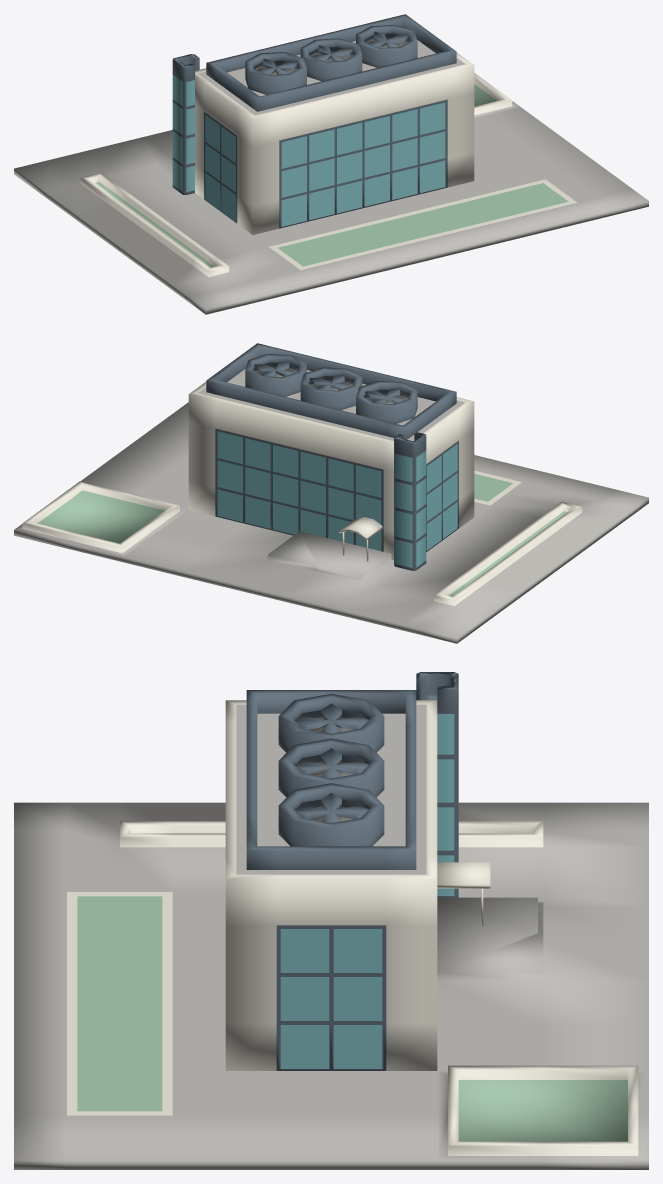
The model's file is lab_stage1.glb.
3 views of the same model, one above another, from view 1: azimuth 30°, elevation 25°; view 2: azimuth 150°, elevation 25°; view 3: azimuth 270°, elevation 25° (orthographic). The views are drawn at different scales.
Visible parts, largest first — view 1: LabBuildingPlatform, LabBuildingMain, LabTop, LabGlassStalk; view 2: LabBuildingPlatform, LabBuildingMain, LabTop, LabGlassStalk; view 3: LabBuildingPlatform, LabBuildingMain, LabTop, LabGlassStalk, LabFan.002, LabFan, LabFan.001.
Part boxes in pixels (<box>): LabBuildingPlatform: <box>14,73,648,314</box>; LabBuildingMain: <box>195,40,474,234</box>; LabTop: <box>206,14,456,111</box>; LabGlassStalk: <box>172,54,199,194</box>; LabBuildingPlatform: <box>14,402,648,643</box>; LabBuildingMain: <box>188,369,474,561</box>; LabTop: <box>206,343,456,439</box>; LabGlassStalk: <box>394,432,426,570</box>; LabBuildingPlatform: <box>14,802,648,1169</box>; LabBuildingMain: <box>225,700,490,1070</box>; LabTop: <box>246,690,416,869</box>; LabGlassStalk: <box>416,672,458,897</box>; LabFan.002: <box>294,748,368,778</box>; LabFan: <box>294,703,368,733</box>; LabFan.001: <box>294,793,368,822</box>.
Size of the model in its own units: 8 by 2.4 by 6.
